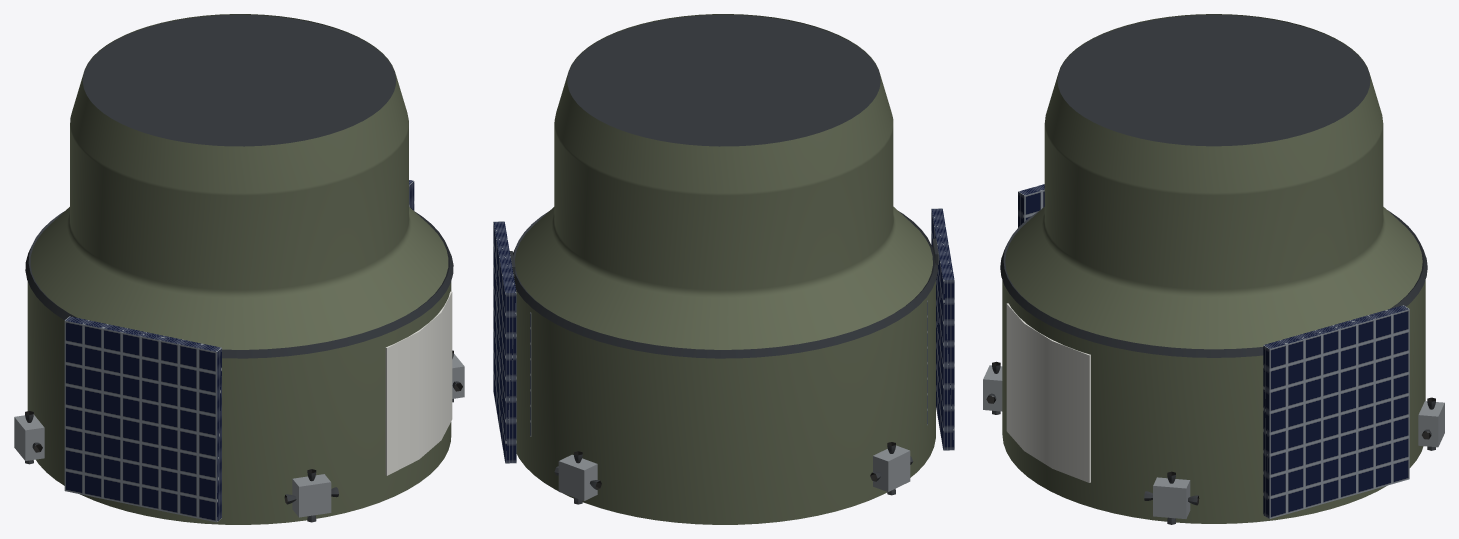
File: soyuz_service_module.glb
The picture shows the model from 3 angles, left to right: view 1: azimuth 30°, elevation 25°; view 2: azimuth 150°, elevation 25°; view 3: azimuth 270°, elevation 25°; orthographic projection.
Visible parts, largest first — view 1: body; view 2: body; view 3: body.
Boxes of the visible parts, left/top/right/bottom form: body: left=14, top=14, right=464, bottom=524; body: left=493, top=14, right=954, bottom=524; body: left=983, top=14, right=1444, bottom=524.
Bounding box in the file's own units: 2.48 × 2.09 × 2.46.
11 materials, 1 textured.
